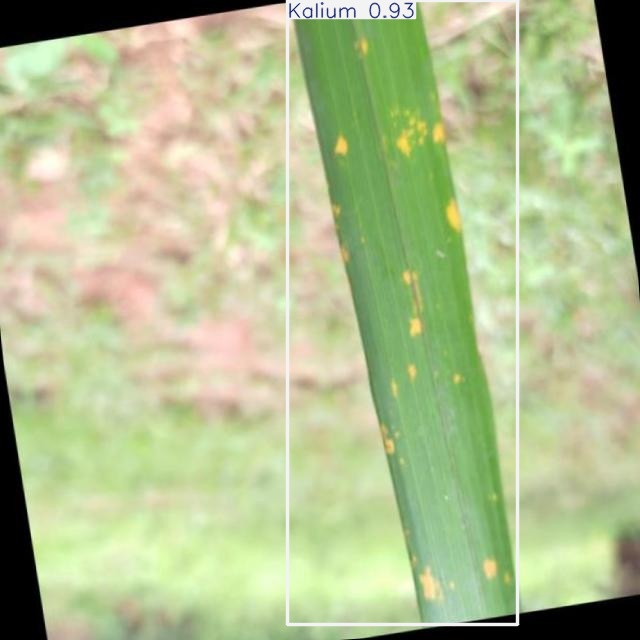Kalium: (288, 0, 517, 624)
